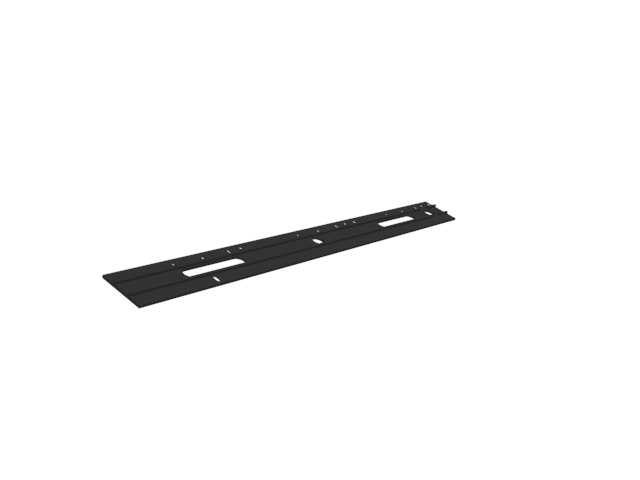ruler: (97, 201, 456, 312)
